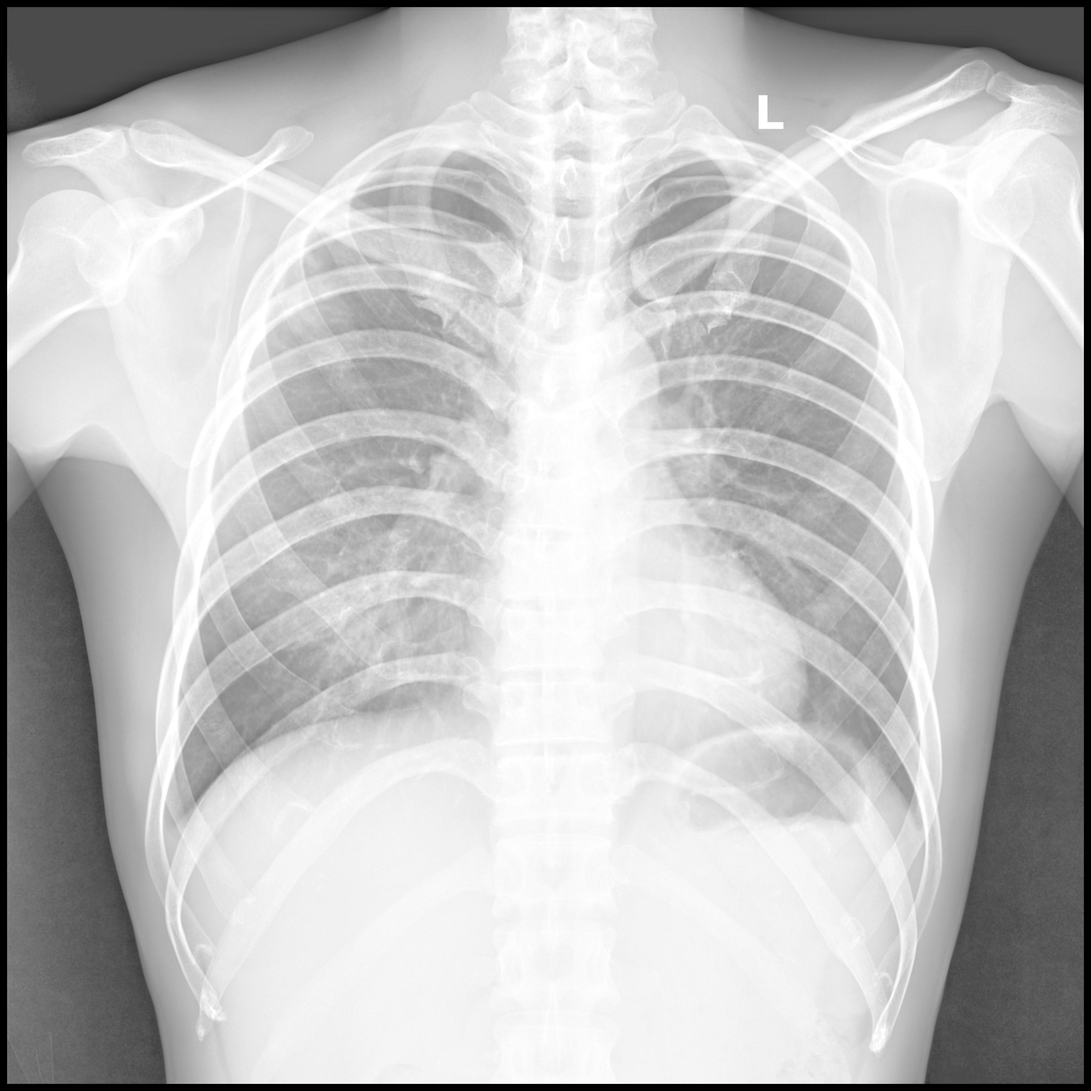Pulmonary fibrosis: (259, 240, 359, 347)
